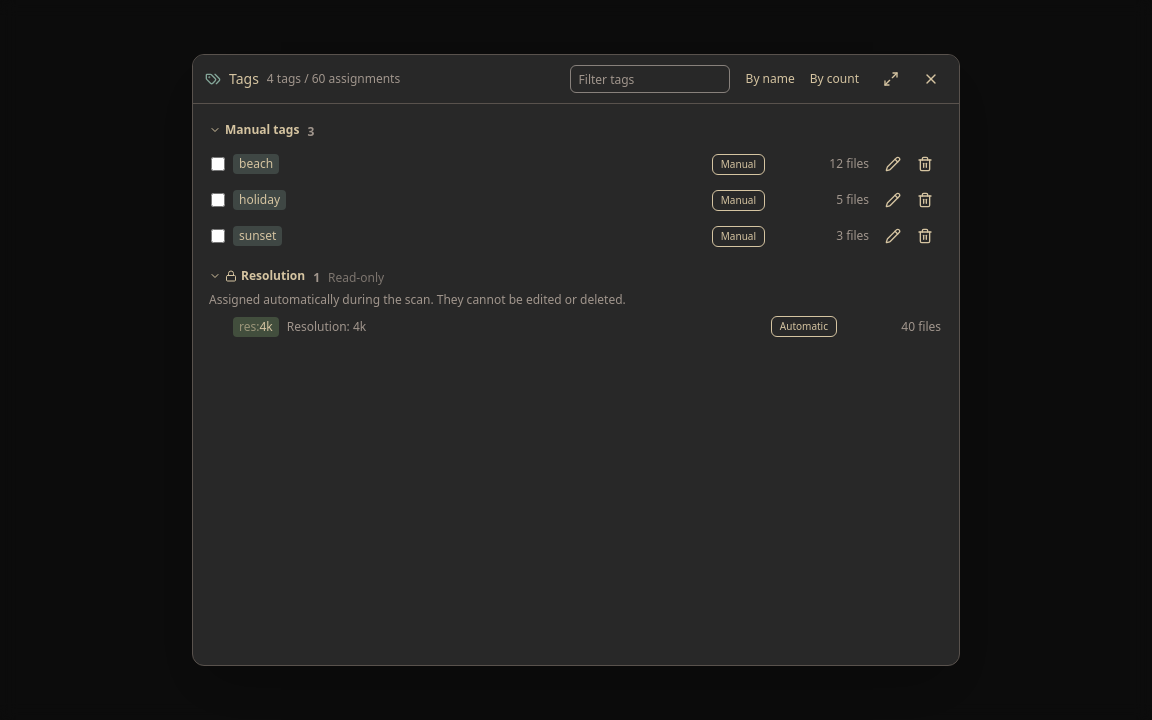
Tags screen › rejects a rename that would impersonate a generated namespace
This screenshot has width=1152, height=720.
Expected: the button "Manual tags" is shown, [209, 122, 299, 138]
Click the button named "Rename" next to "12 files" at (893, 164), box [877, 150, 909, 178]
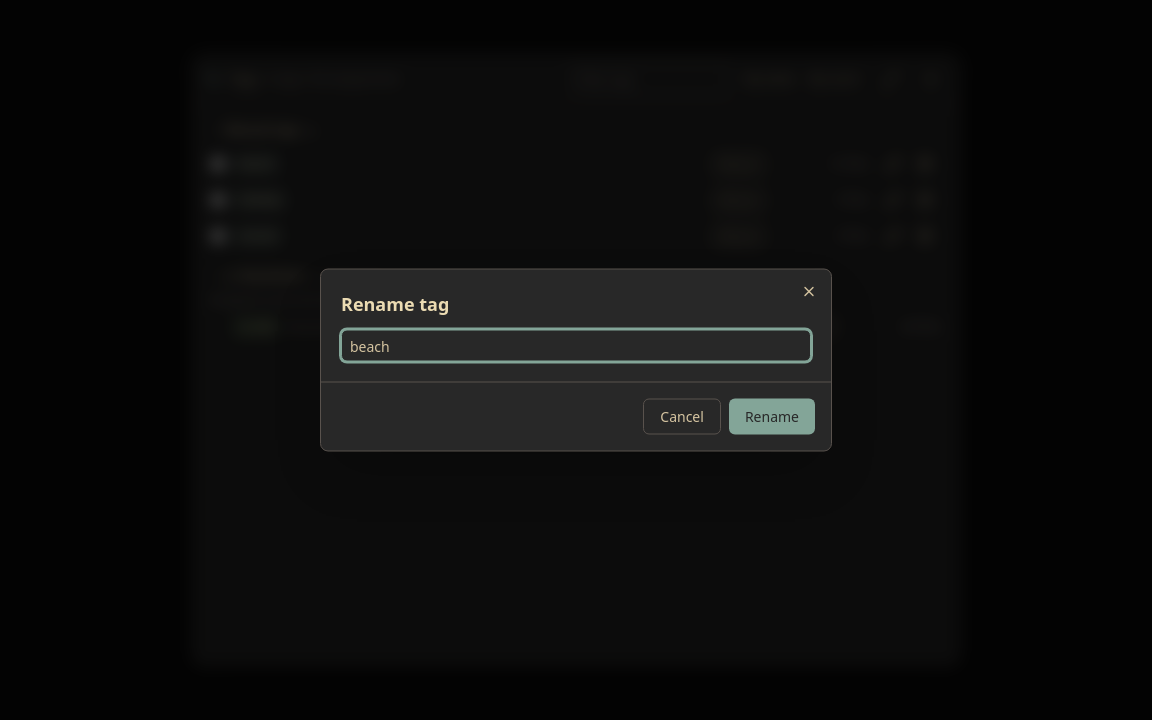
Replace the text in the field named "New tag name" with "res:8k" at (576, 346), box [341, 330, 811, 362]
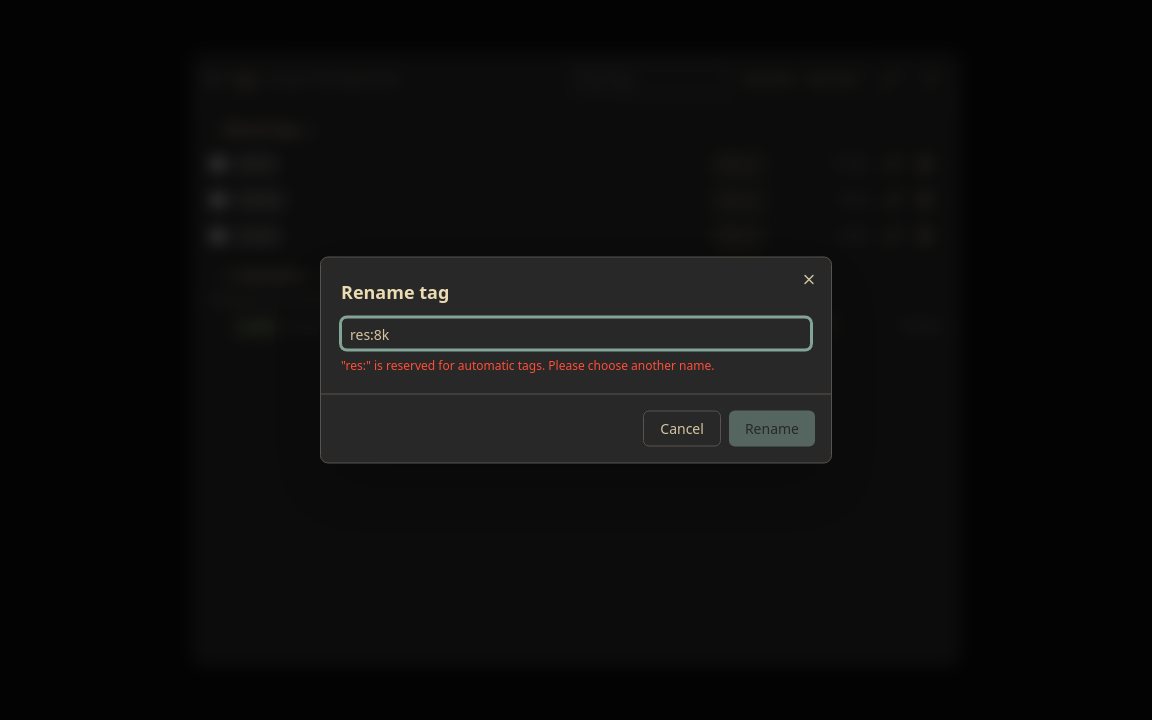
Result: the text "\"res:\" is reserved" is shown at [341, 356, 714, 374]
Result: the button "Rename" is disabled at [729, 410, 815, 446]
Replace the text in the field named "New tag name" with "tag:foo" at (576, 334), box [341, 318, 811, 350]
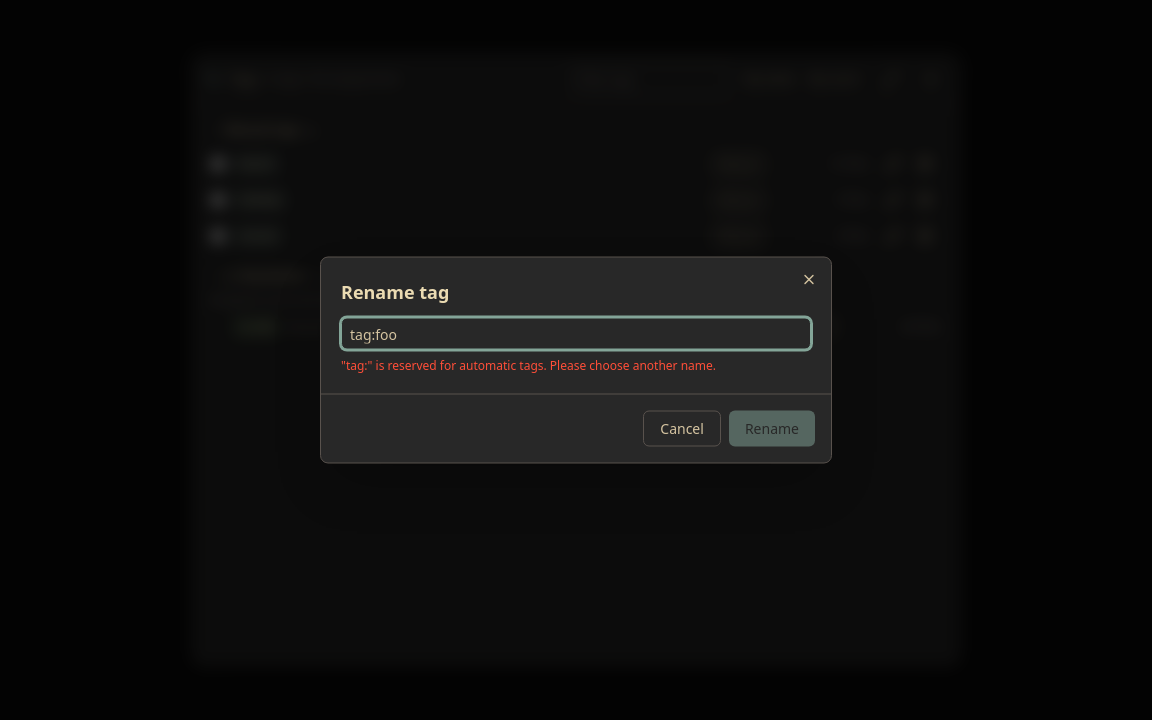
Result: the text "\"tag:\" is reserved" is shown at [341, 356, 716, 374]
